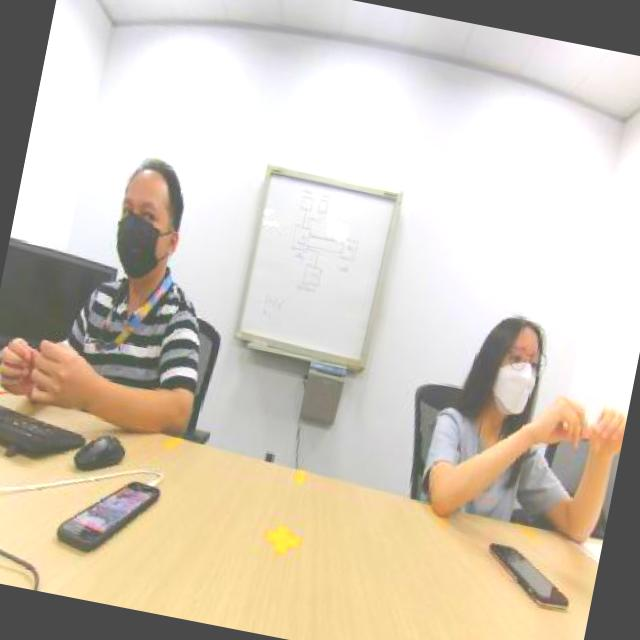Person: (394, 236, 639, 526), (36, 132, 225, 414)
